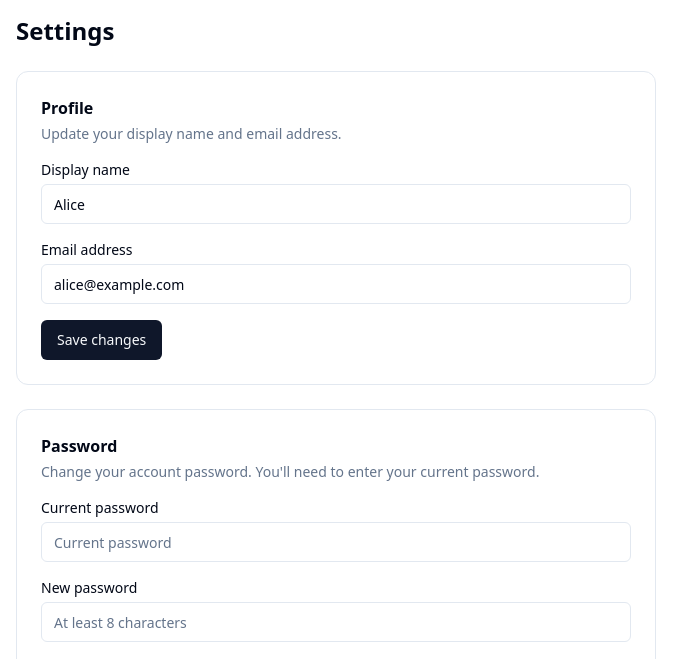
SettingsPage � password form › shows mismatch error when passwords do not match
Type "oldpass123" into the password field with placeholder "Current password" at (336, 542), box 41,522 -> 631,562
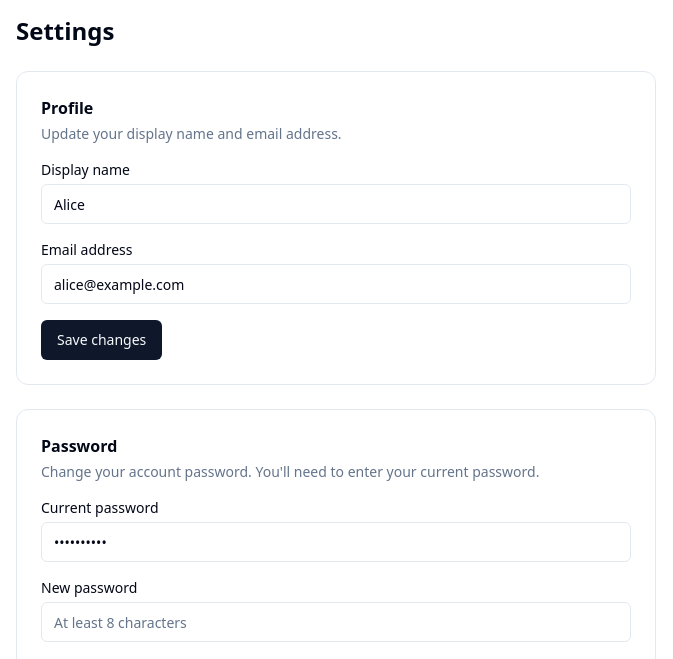
Type "newpass123" into the password field labelled "New password" at (336, 622), box 41,602 -> 631,642
(page scrolled)
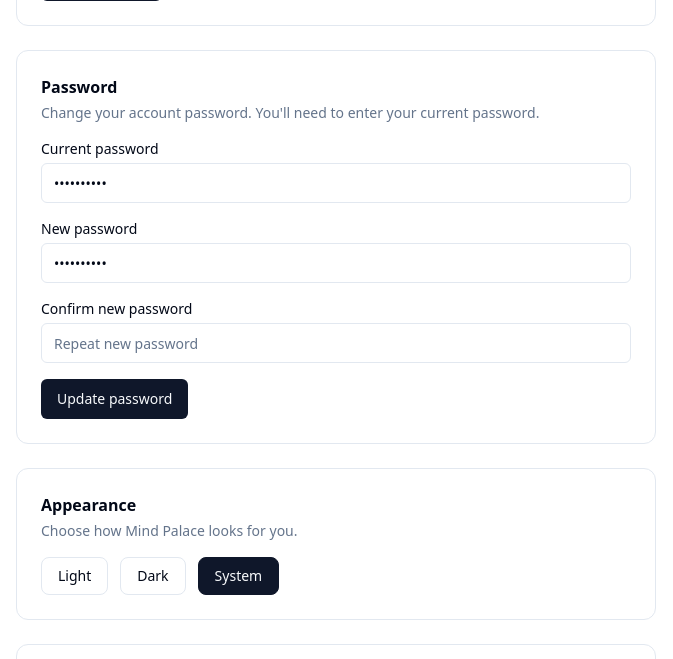
Type "different!!" into the password field labelled "Confirm new password" at (336, 343), box 41,323 -> 631,363
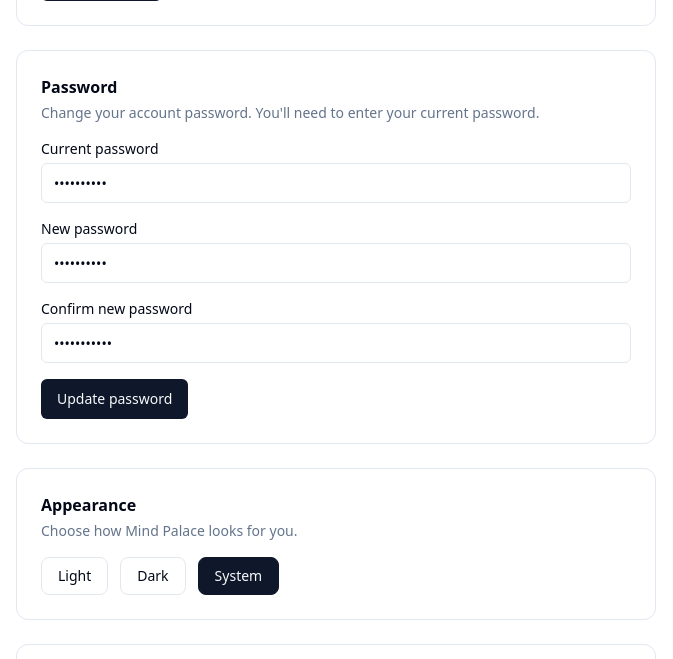
Click the button "Update password" at (115, 399), box 41,379 -> 188,419
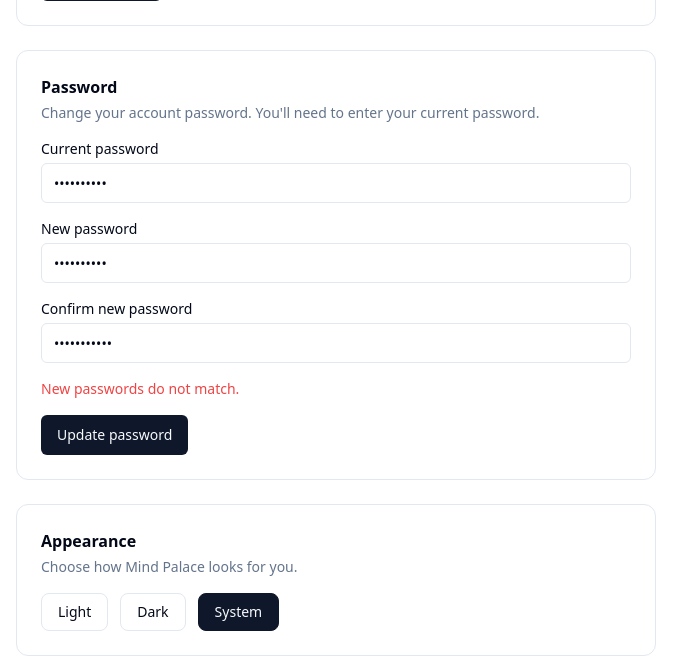
Check: the text "New passwords do not match." is shown, box 41,379 -> 239,398
